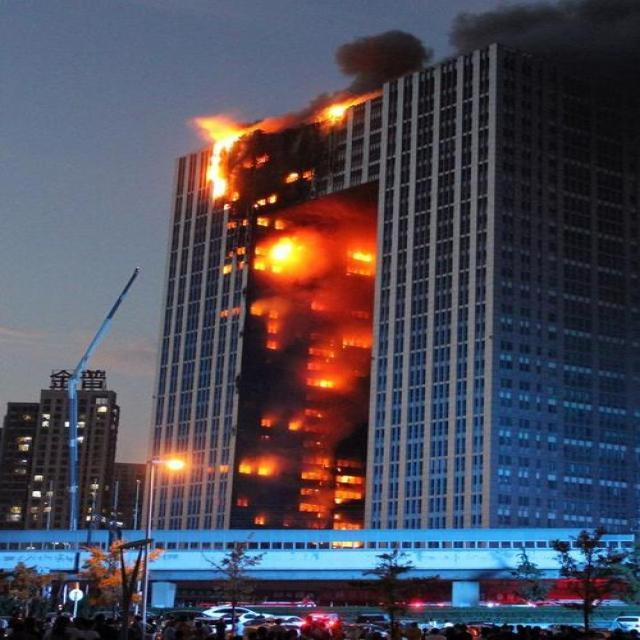Fire: (193, 115, 241, 202), (260, 231, 314, 279), (322, 102, 350, 123)
Smoke: (453, 0, 637, 67), (335, 28, 426, 92)
